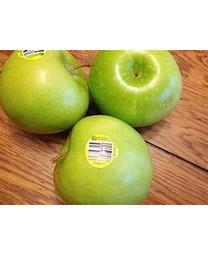apple: (53, 115, 152, 205), (0, 51, 90, 134), (87, 50, 182, 128)
